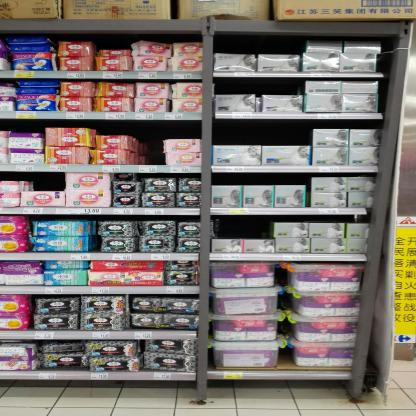Void: (212, 120, 309, 146), (219, 36, 305, 54), (216, 170, 307, 183), (213, 218, 277, 236), (134, 122, 160, 162), (218, 78, 298, 91), (37, 171, 65, 189), (170, 122, 198, 137), (98, 122, 132, 133), (102, 38, 128, 48), (13, 124, 42, 131)
